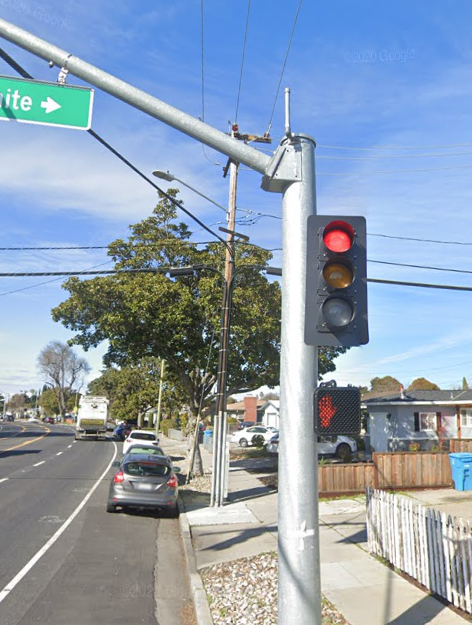red_light: (311, 220, 364, 336)
